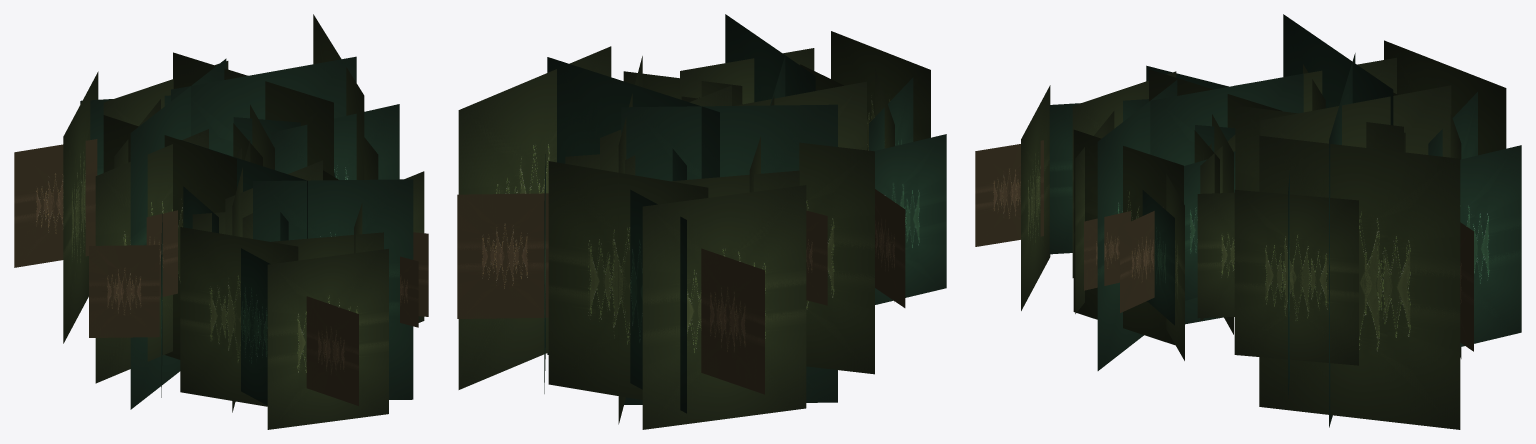
Rendered from SmallGrass01.glb.
3 renders of one model, left to right at view 1: azimuth 30°, elevation 25°; view 2: azimuth 150°, elevation 25°; view 3: azimuth 270°, elevation 25°, orthographic. The views are drawn at different scales.
Parts seen in each view (by area): view 1: SmallGrass01; view 2: SmallGrass01; view 3: SmallGrass01.
Boxes of the visible parts, x1,y1,x2,y2 form: SmallGrass01: [14, 14, 428, 429]; SmallGrass01: [457, 14, 946, 429]; SmallGrass01: [975, 14, 1521, 429].
Size of the model in its own units: 1.33 by 1.09 by 1.87.
Materials: 1 (1 with a texture image).
